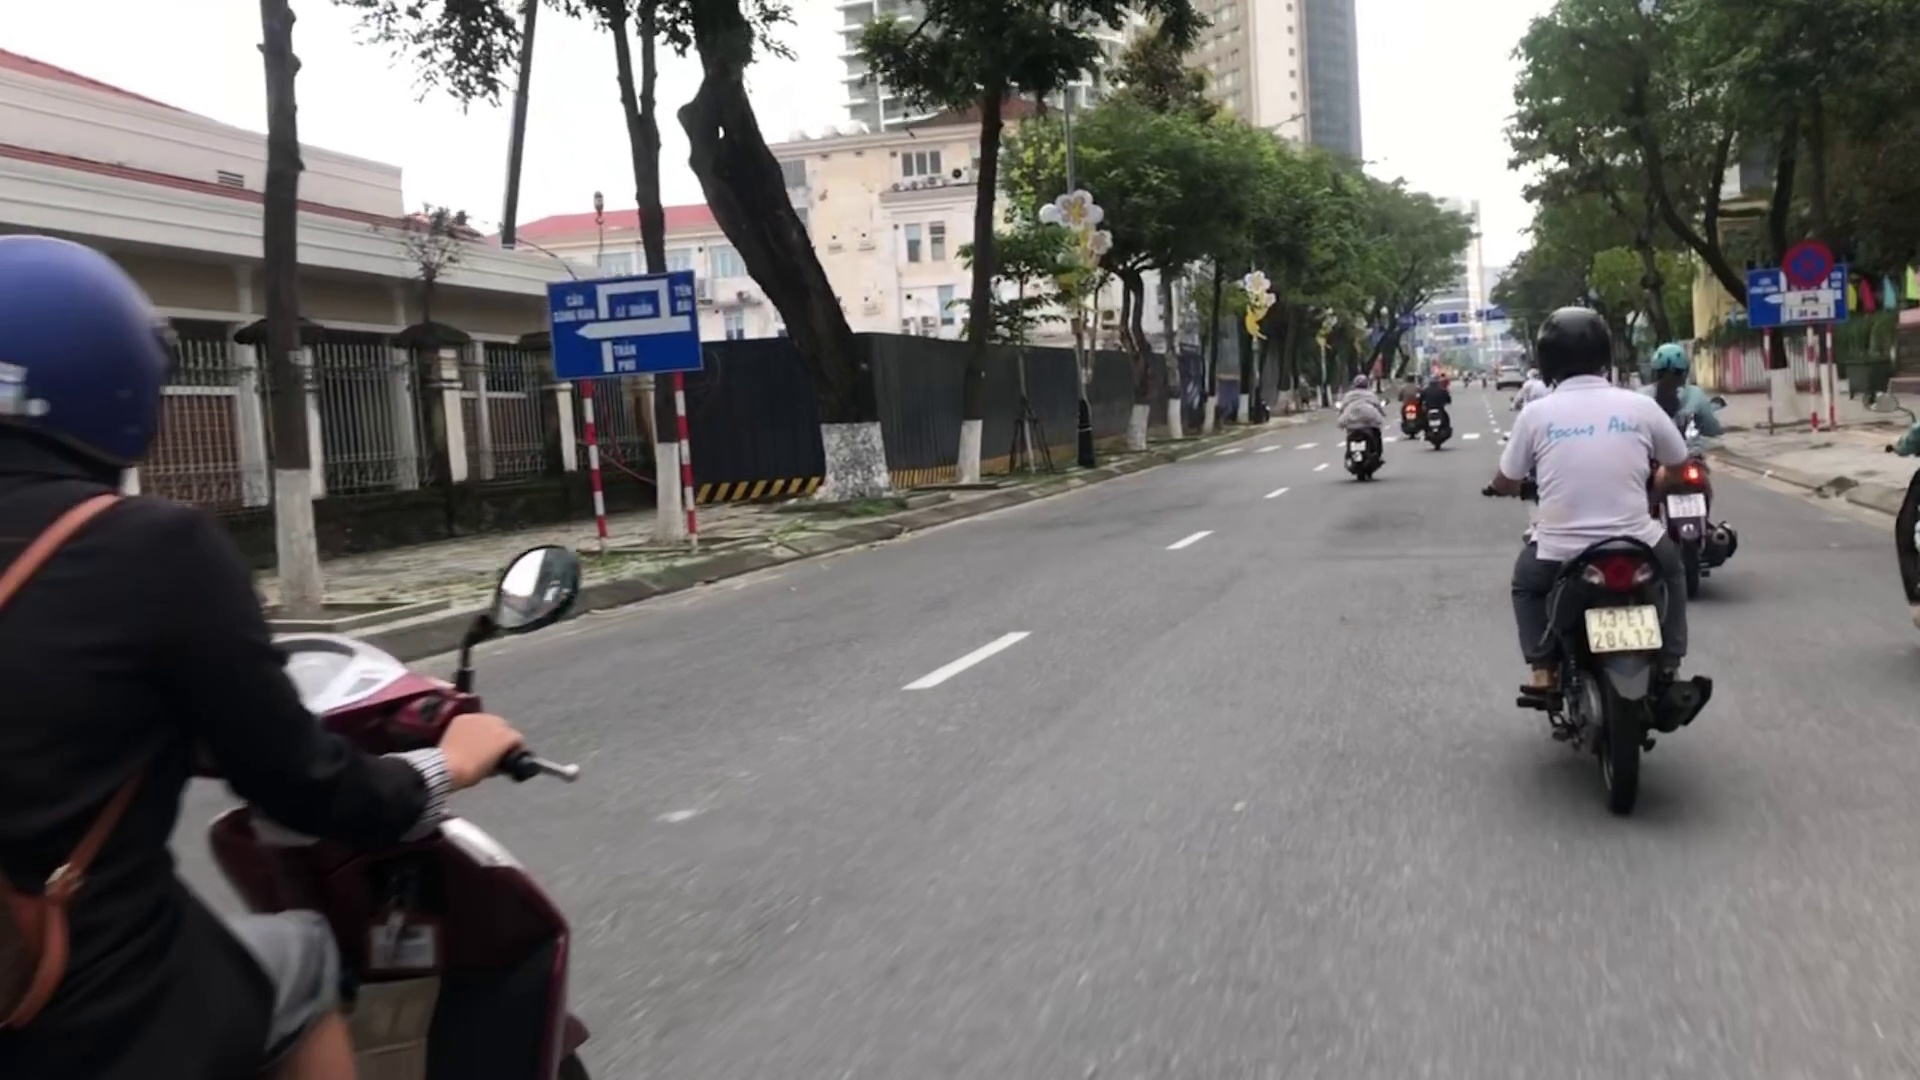Bien khac: (542, 270, 703, 376), (1778, 233, 1838, 289)
